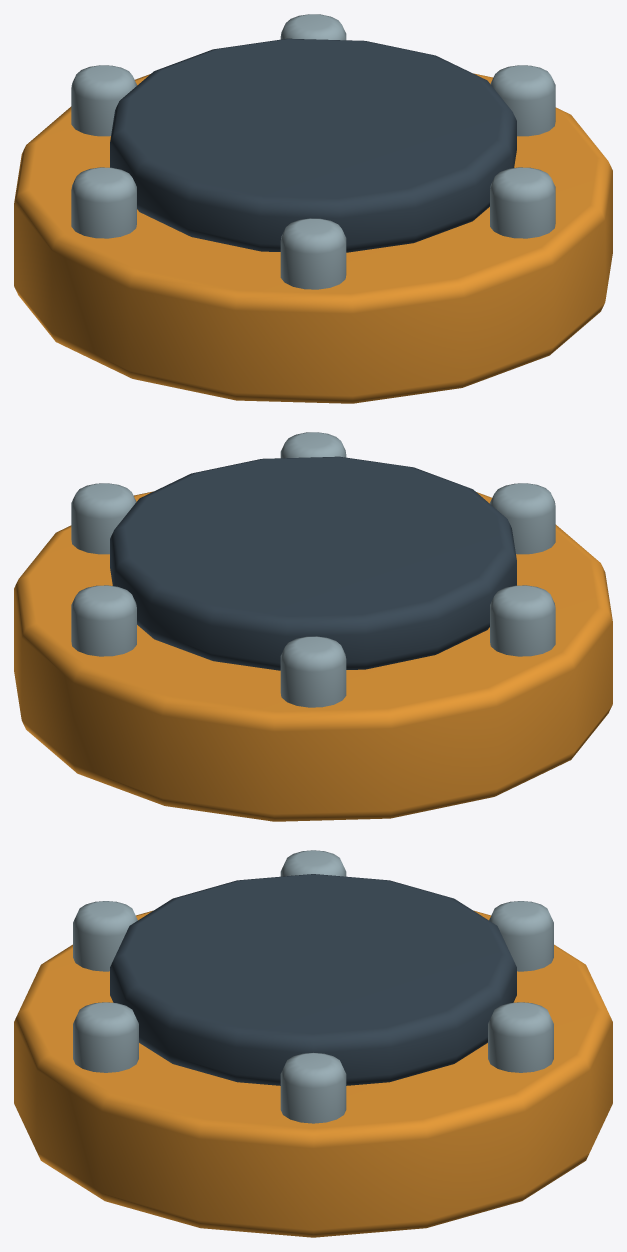
Rendered from MineLander_Normal.fbx.
3 views of the same model, one above another, from view 1: azimuth 30°, elevation 25°; view 2: azimuth 150°, elevation 25°; view 3: azimuth 270°, elevation 25° (orthographic).
Parts seen in each view (by area): view 1: Mine disc, Pressure plate, Trigger stud.002, Trigger stud.003, Trigger stud.001, Trigger stud.004, Trigger stud, Trigger stud.005; view 2: Mine disc, Pressure plate, Trigger stud.004, Trigger stud.003, Trigger stud.005, Trigger stud.002, Trigger stud, Trigger stud.001; view 3: Mine disc, Pressure plate, Trigger stud, Trigger stud.001, Trigger stud.005, Trigger stud.002, Trigger stud.004, Trigger stud.003.
Boxes of the visible parts, x1=… form: Mine disc: x1=14, y1=73, x2=612, y2=403; Pressure plate: x1=110, y1=38, x2=516, y2=252; Trigger stud.002: x1=280, y1=218, x2=346, y2=289; Trigger stud.003: x1=71, y1=167, x2=136, y2=238; Trigger stud.001: x1=490, y1=167, x2=555, y2=238; Trigger stud.004: x1=71, y1=65, x2=136, y2=136; Trigger stud: x1=490, y1=65, x2=555, y2=136; Trigger stud.005: x1=280, y1=14, x2=346, y2=40; Mine disc: x1=14, y1=491, x2=612, y2=821; Pressure plate: x1=110, y1=456, x2=516, y2=670; Trigger stud.004: x1=280, y1=636, x2=346, y2=707; Trigger stud.003: x1=490, y1=585, x2=555, y2=656; Trigger stud.005: x1=71, y1=585, x2=136, y2=656; Trigger stud.002: x1=490, y1=483, x2=555, y2=554; Trigger stud: x1=71, y1=483, x2=136, y2=554; Trigger stud.001: x1=280, y1=432, x2=346, y2=458; Mine disc: x1=14, y1=910, x2=612, y2=1237; Pressure plate: x1=110, y1=874, x2=516, y2=1085; Trigger stud: x1=280, y1=1052, x2=346, y2=1123; Trigger stud.001: x1=73, y1=1002, x2=138, y2=1072; Trigger stud.005: x1=488, y1=1002, x2=553, y2=1072; Trigger stud.002: x1=73, y1=901, x2=137, y2=971; Trigger stud.004: x1=489, y1=901, x2=553, y2=971; Trigger stud.003: x1=280, y1=850, x2=346, y2=876.
Size of the model in its own units: 100 by 30 by 100.
